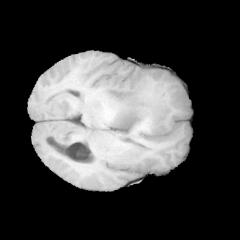glioma: (106, 78, 173, 137)
